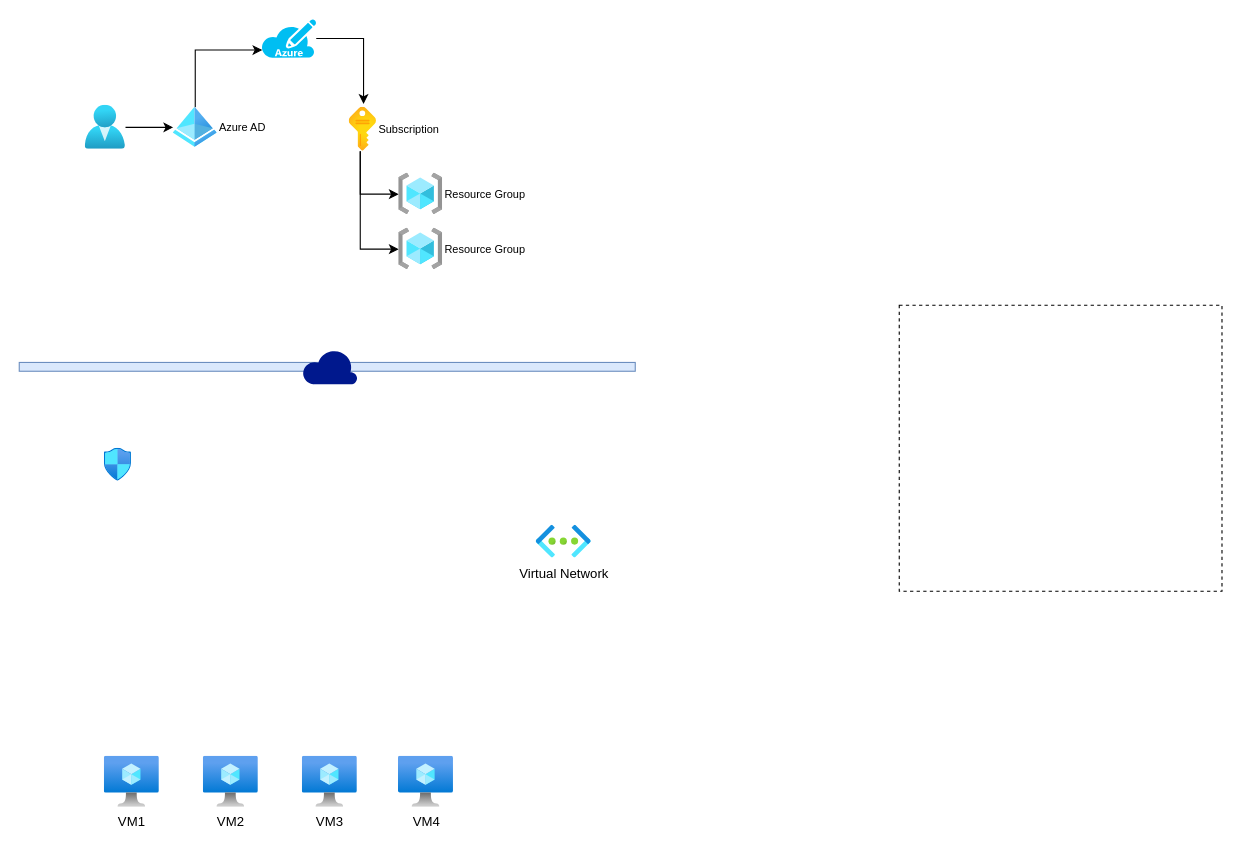
This 1242x849 diagram has some shape labels left out. Each missing label, with the centre of its shape:
"Internet" goes at [329,366].
"NSG1" goes at [117,464].
